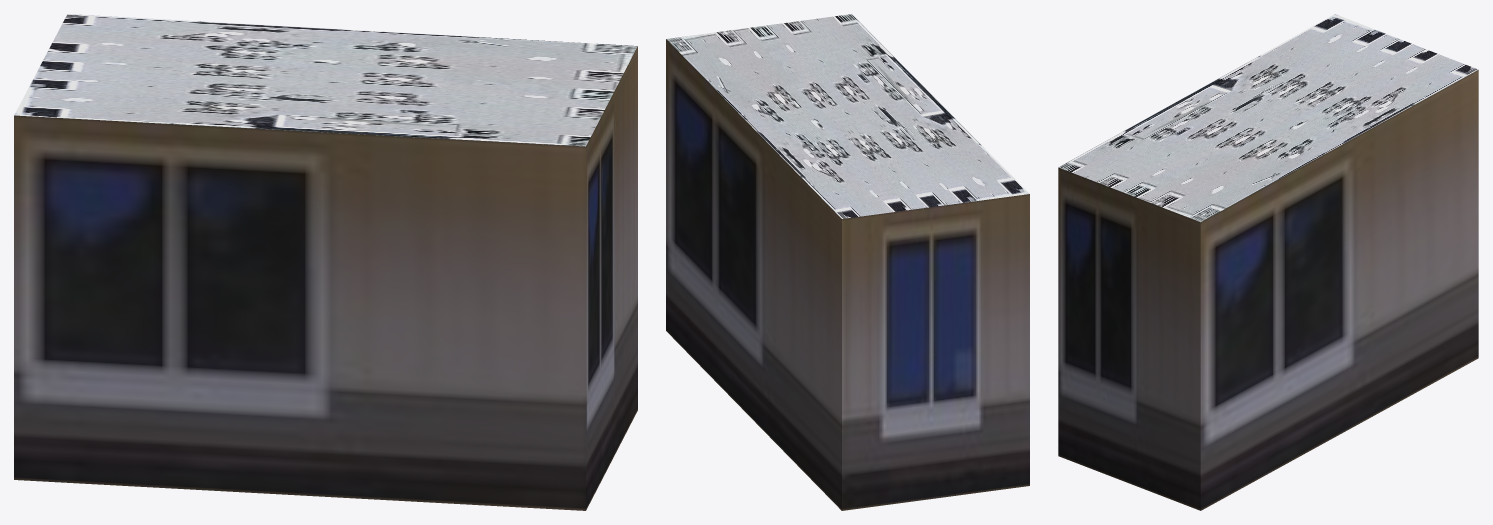
Rendered from ResTex__291.fbx.
The picture shows the model from 3 angles, left to right: view 1: azimuth 30°, elevation 25°; view 2: azimuth 150°, elevation 25°; view 3: azimuth 270°, elevation 25°; orthographic projection. The views are drawn at different scales.
Visible parts, largest first — view 1: CityEngineMaterial_5_m, CityEngineMaterial_8_m; view 2: CityEngineMaterial_5_m, CityEngineMaterial_8_m; view 3: CityEngineMaterial_5_m, CityEngineMaterial_8_m.
Part boxes in pixels (x1,y1,x2,y2): CityEngineMaterial_5_m: [14, 46, 637, 510]; CityEngineMaterial_8_m: [14, 14, 637, 146]; CityEngineMaterial_5_m: [666, 39, 1029, 510]; CityEngineMaterial_8_m: [666, 14, 1029, 218]; CityEngineMaterial_5_m: [1058, 70, 1478, 510]; CityEngineMaterial_8_m: [1058, 14, 1478, 222].
Size of the model in its own units: 4.64 by 3 by 3.96.
2 materials, 2 textured.
